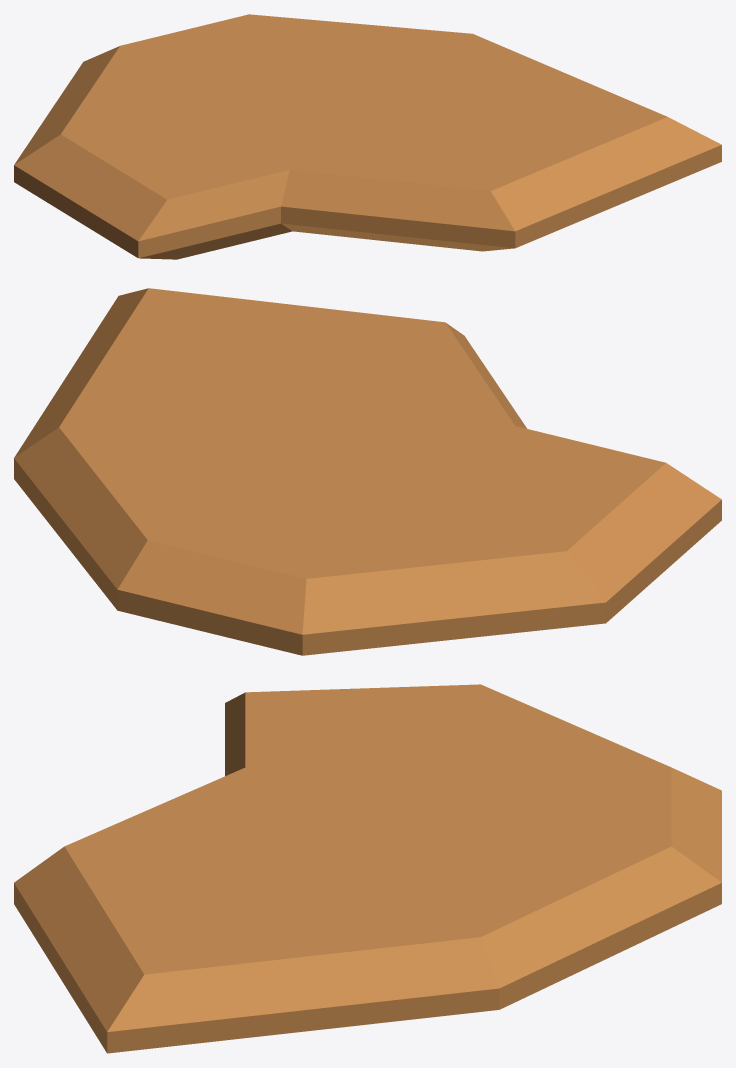
File: Rock_Medium_Flat_Dirt_02.fbx
The picture shows the model from 3 angles, top to bottom: view 1: azimuth 30°, elevation 25°; view 2: azimuth 150°, elevation 25°; view 3: azimuth 270°, elevation 25°; orthographic projection. The views are drawn at different scales.
Visible parts, largest first — view 1: Rock_Medium_Flat_Dirt_02; view 2: Rock_Medium_Flat_Dirt_02; view 3: Rock_Medium_Flat_Dirt_02.
Boxes of the visible parts, box(x1,y1,x2,y2) form: Rock_Medium_Flat_Dirt_02: box(14, 14, 721, 259); Rock_Medium_Flat_Dirt_02: box(14, 288, 721, 655); Rock_Medium_Flat_Dirt_02: box(14, 684, 721, 1053).
Size of the model in its own units: 91.05 by 10.23 by 80.51.
